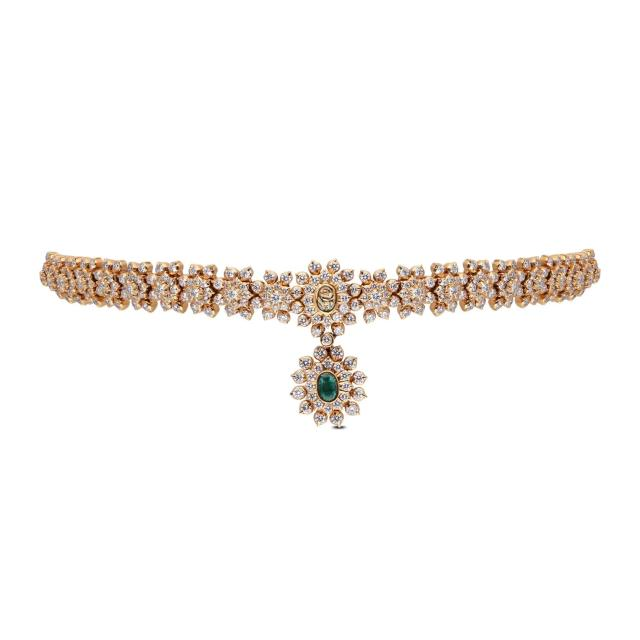missing gem: (317, 285, 336, 312)
